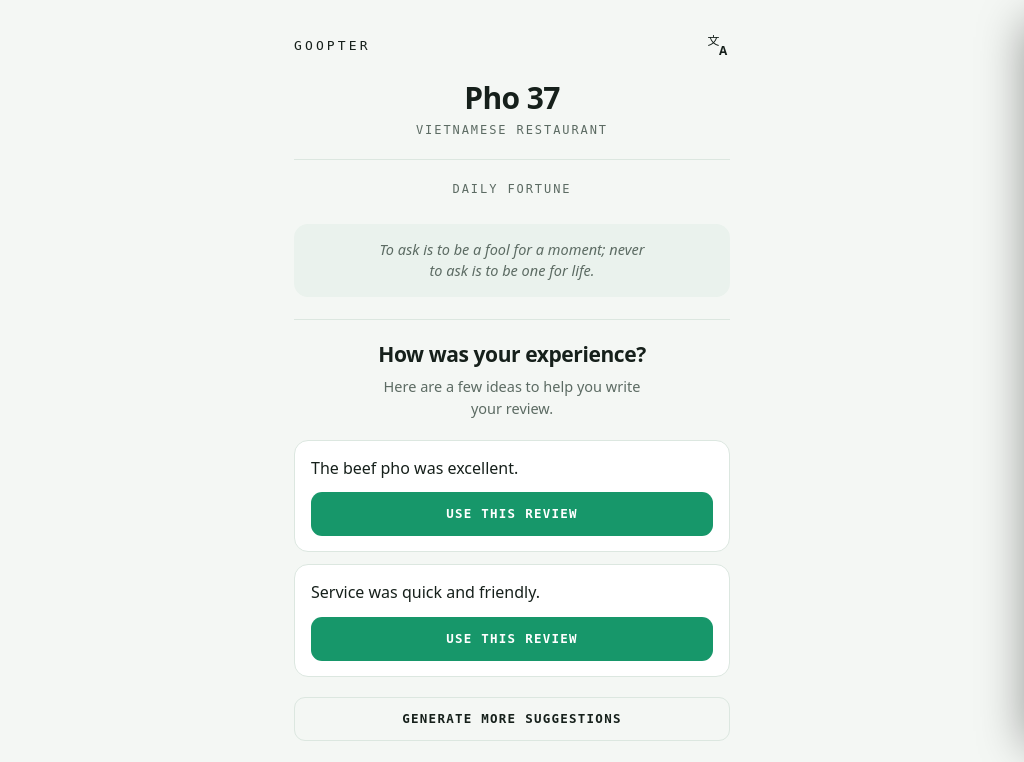
Test: switching language › costs nothing to switch back
Expected: the heading "Pho 37" is shown, [464, 82, 560, 114]
Expected: the text "The beef pho was excellent." is shown, [311, 457, 518, 479]
Click the button with class "menu".
click(718, 45)  # box [701, 28, 735, 62]
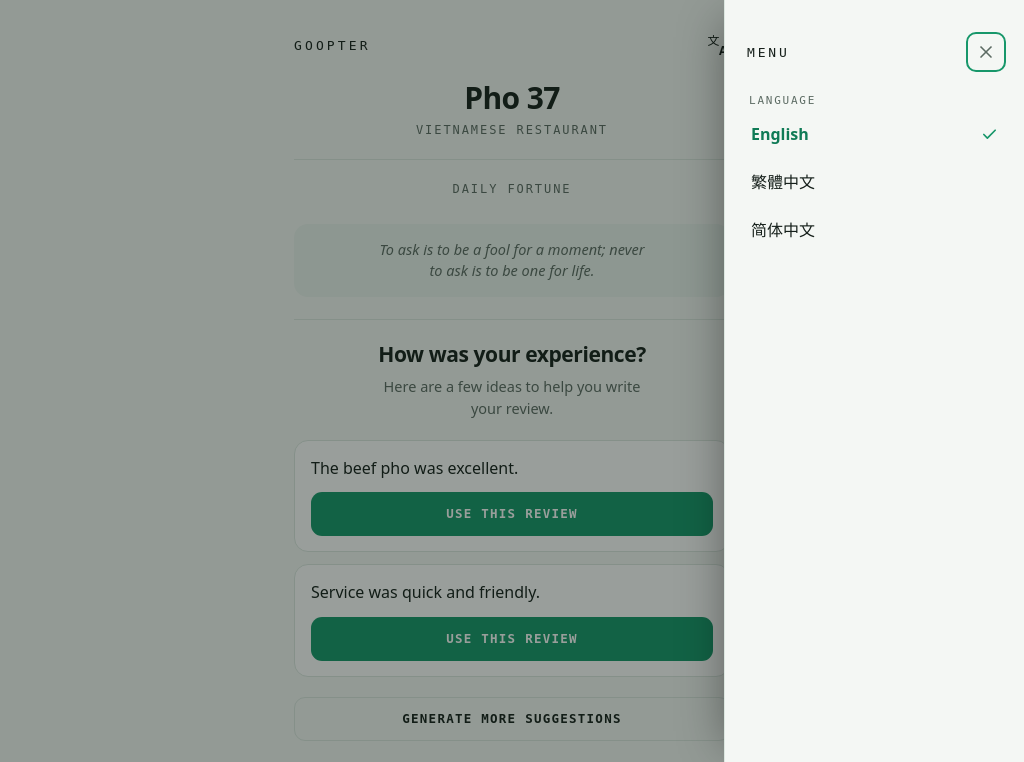
Click the menu item "繁體中文".
click(783, 182)  # box [743, 157, 1006, 205]
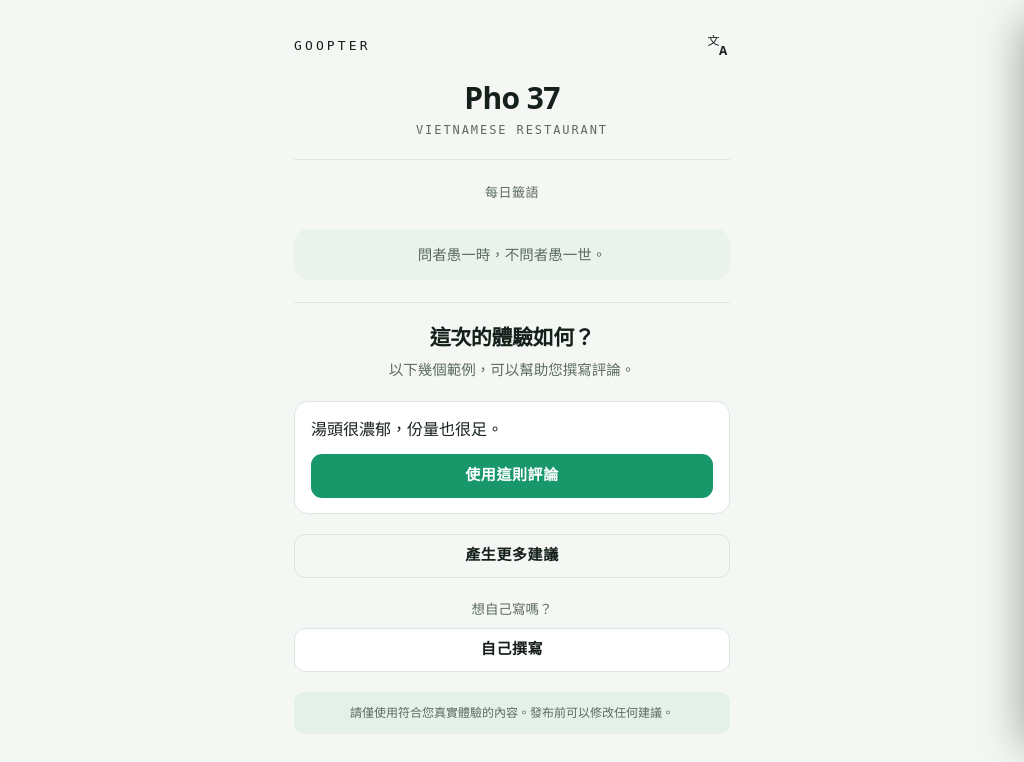
Expected: the text "湯頭很濃郁，份量也很足。" is shown, [311, 418, 503, 440]
Click the button with class "menu".
click(718, 45)  # box [701, 28, 735, 62]
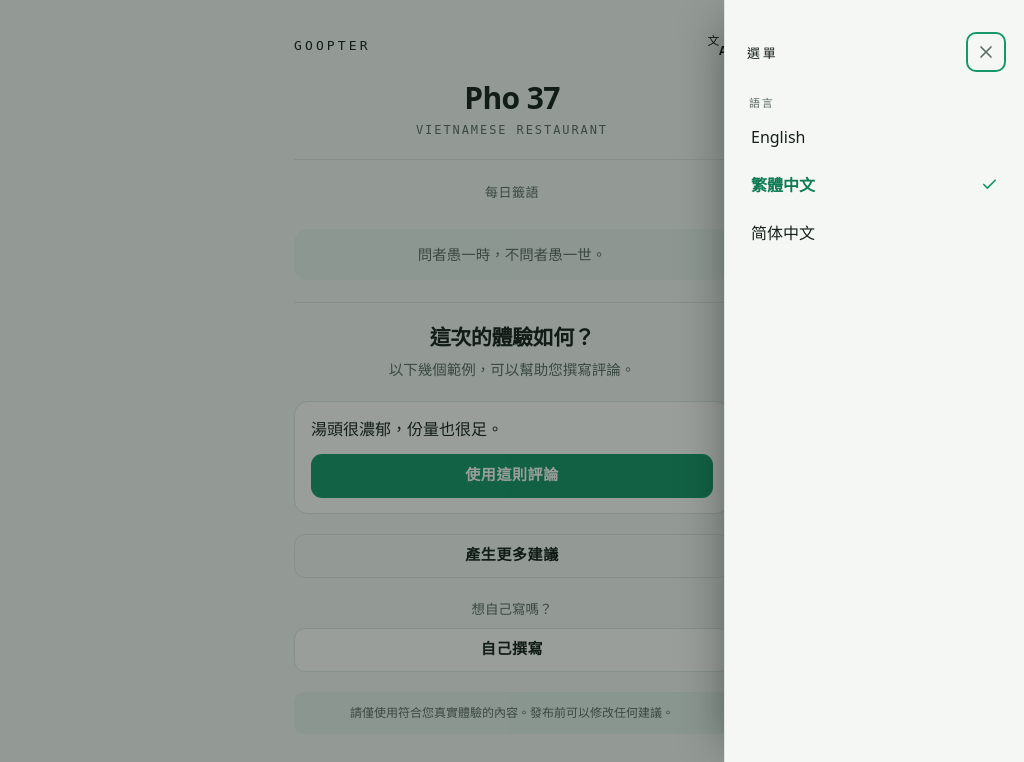
Click the menu item "English".
click(778, 137)  # box [743, 114, 1006, 160]
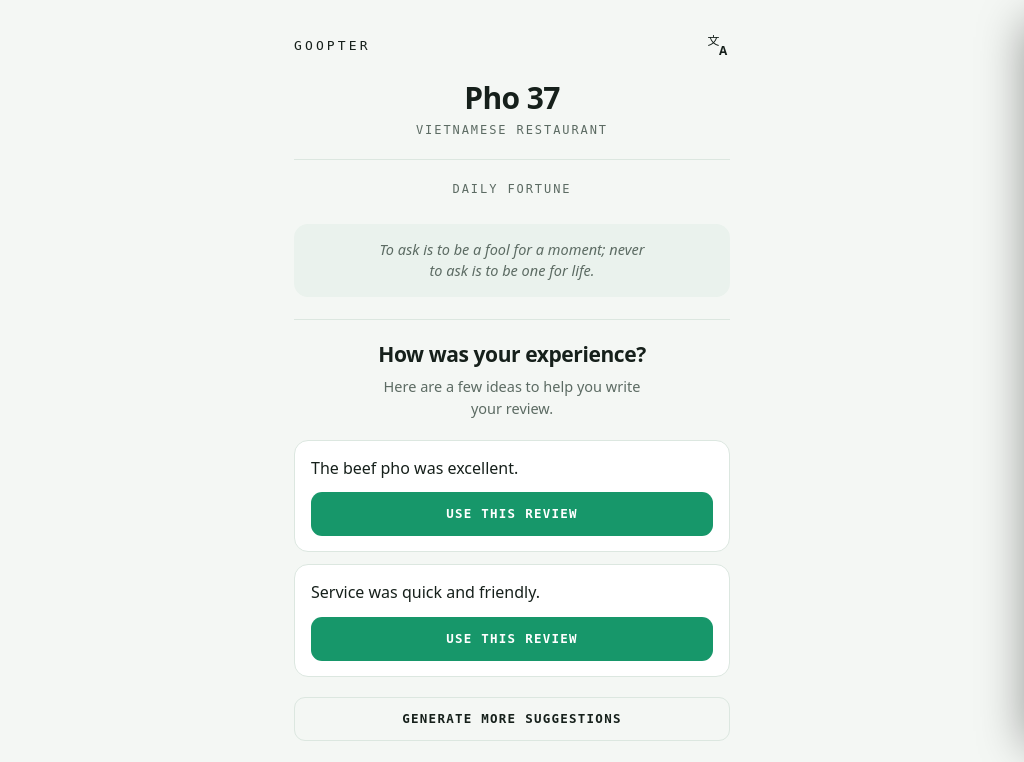
Expected: the text "The beef pho was excellent." is shown, [311, 457, 518, 479]
